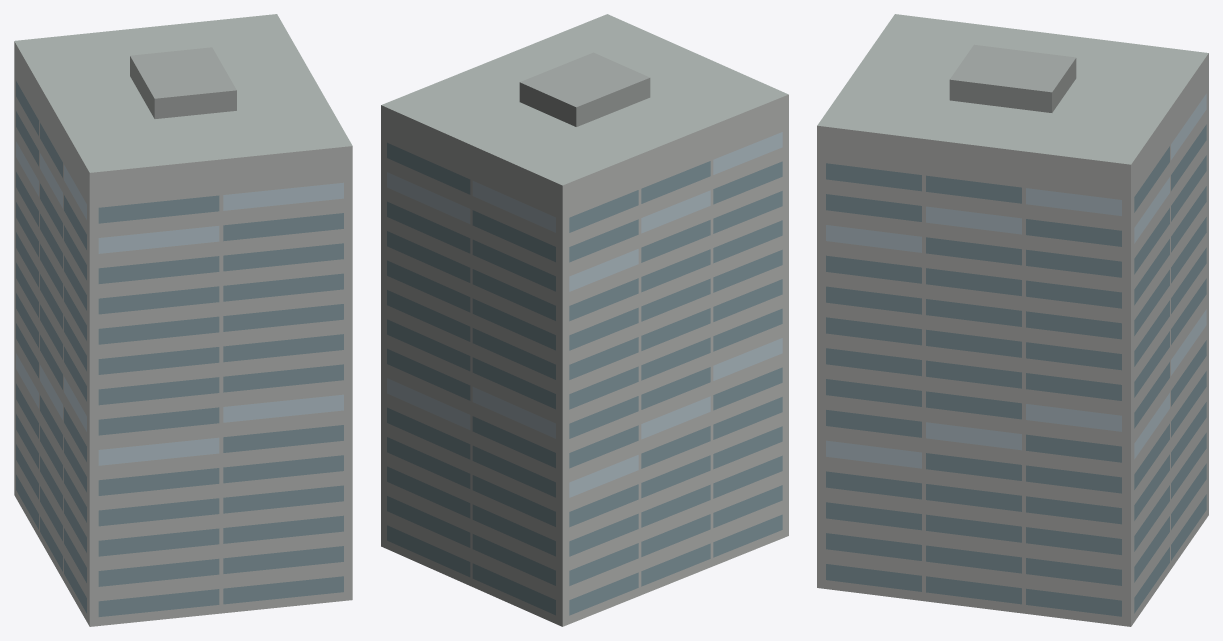
The model's file is fallback-olympic-park-foreon-316.glb.
3 views of the same model, side by side, from view 1: azimuth 30°, elevation 25°; view 2: azimuth 150°, elevation 25°; view 3: azimuth 270°, elevation 25° (orthographic). The views are drawn at different scales.
Parts seen in each view (by area): view 1: fallback-olympic-park-foreon-316; view 2: fallback-olympic-park-foreon-316; view 3: fallback-olympic-park-foreon-316.
Part boxes in pixels (x1,y1,x2,y2): fallback-olympic-park-foreon-316: (14,14,352,626); fallback-olympic-park-foreon-316: (381,14,788,626); fallback-olympic-park-foreon-316: (817,14,1208,626).
Bounding box in the file's own units: 31.99 × 47.81 × 35.13.
